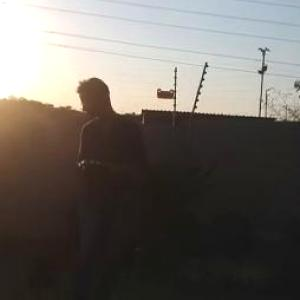follow: (68, 70, 154, 299)
